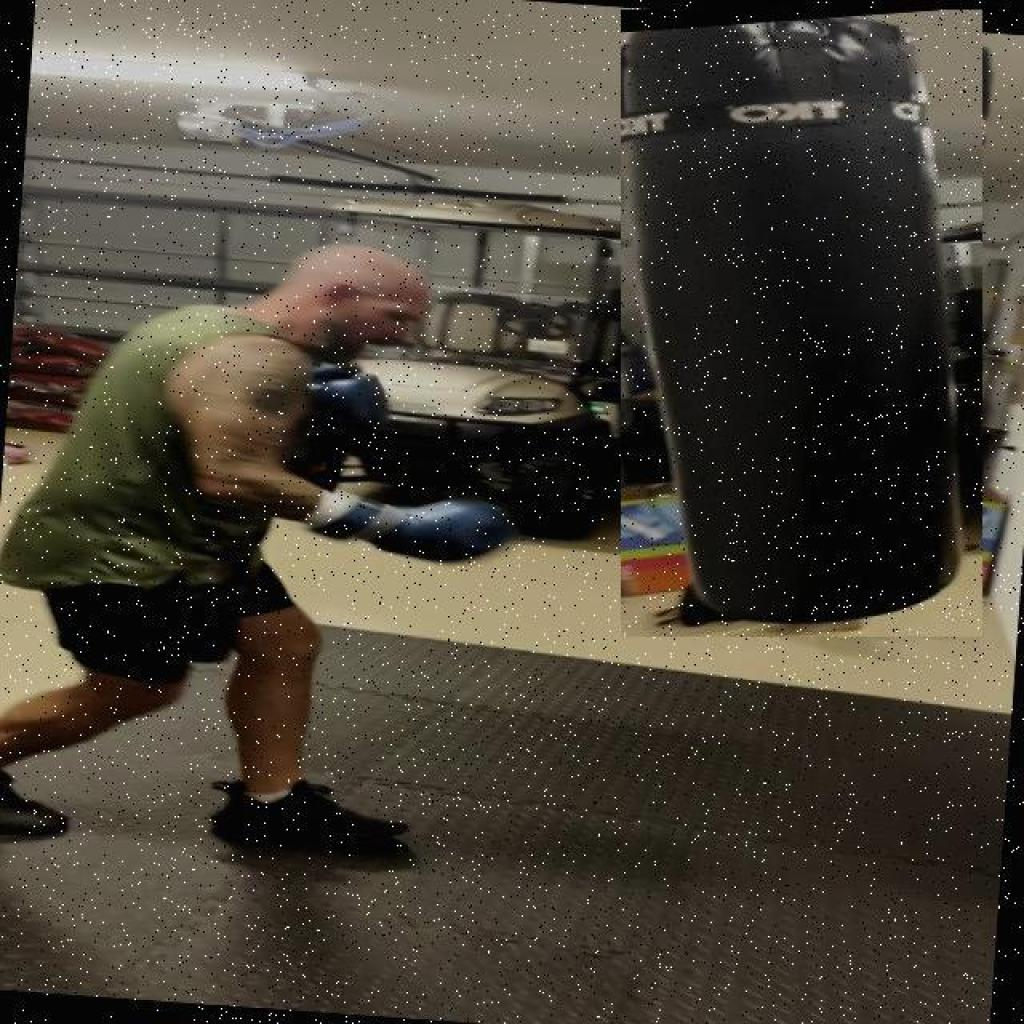bag: (621, 10, 982, 636)
uppercut: (32, 219, 552, 584)
